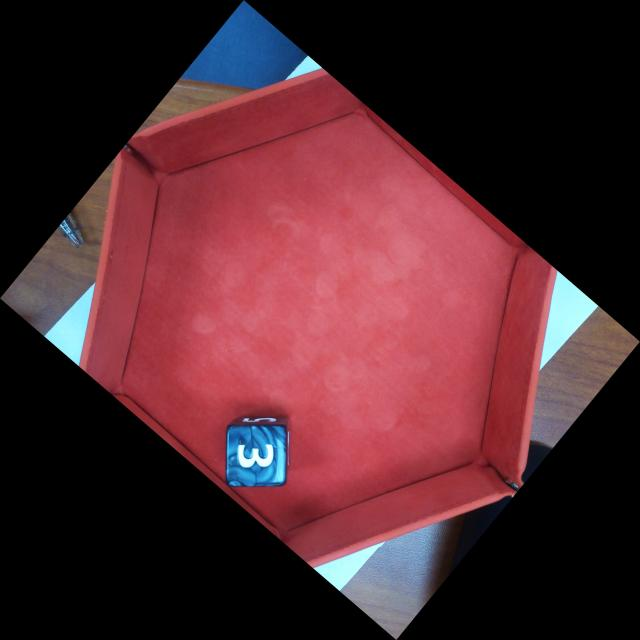dice: (226, 425, 287, 486)
